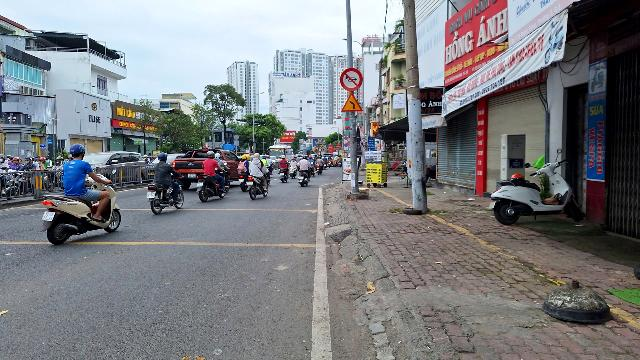cam-bop-coi: (339, 68, 363, 91)
cho-ngoat-nguy-hiem-ben-trai: (341, 92, 363, 111)
